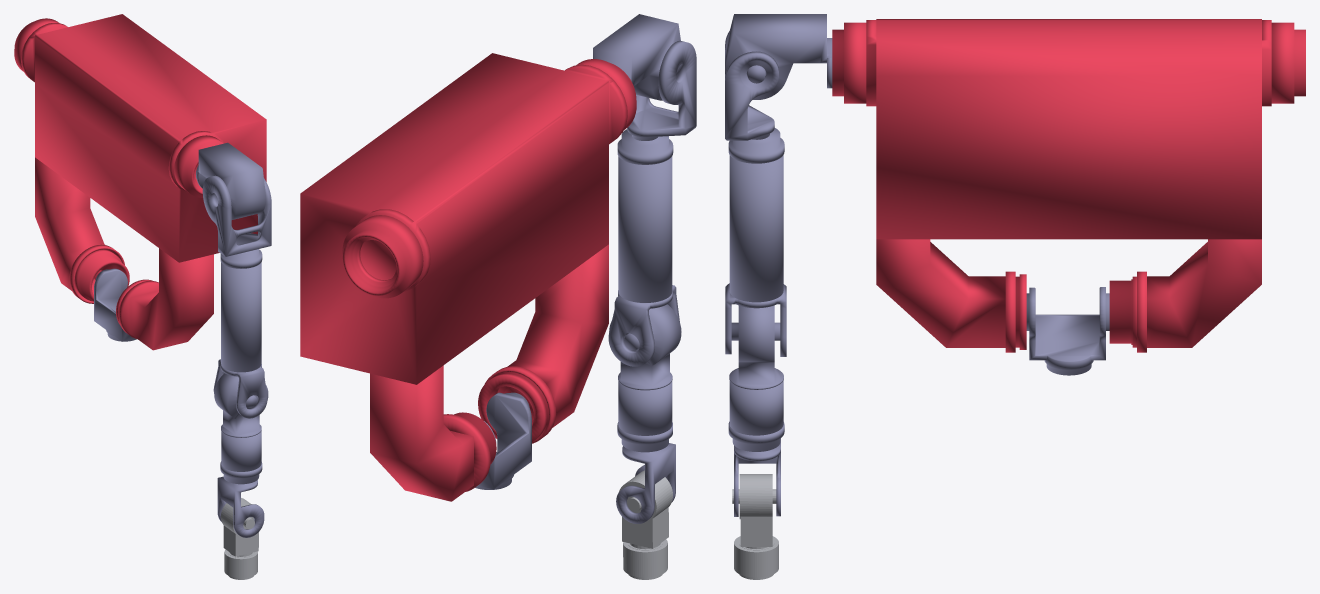
The model's file is teo_rightArm.glb.
The picture shows the model from 3 angles, left to right: view 1: azimuth 30°, elevation 25°; view 2: azimuth 150°, elevation 25°; view 3: azimuth 270°, elevation 25°; orthographic projection. The views are drawn at different scales.
Visible parts, largest first — view 1: node.016, AxialRightShoulder, FrontalRightElbow, FrontalRightShoulder, SagittalRightShoulder, FrontalRightWrist, node.015, AxialRightWrist; view 2: node.016, AxialRightShoulder, FrontalRightElbow, SagittalRightShoulder, FrontalRightShoulder, FrontalRightWrist, node.015, AxialRightWrist; view 3: node.016, AxialRightShoulder, FrontalRightElbow, FrontalRightShoulder, node.015, FrontalRightWrist, SagittalRightShoulder, AxialRightWrist.
Boxes of the visible parts, bbox=[...] form: node.016: bbox=[14, 14, 266, 350]; AxialRightShoulder: bbox=[213, 249, 267, 418]; FrontalRightElbow: bbox=[214, 373, 268, 484]; FrontalRightShoulder: bbox=[196, 142, 265, 219]; SagittalRightShoulder: bbox=[202, 175, 271, 256]; FrontalRightWrist: bbox=[220, 498, 258, 579]; node.015: bbox=[94, 268, 136, 341]; AxialRightWrist: bbox=[217, 476, 264, 537]; node.016: bbox=[300, 53, 636, 501]; AxialRightShoulder: bbox=[608, 129, 679, 366]; FrontalRightElbow: bbox=[609, 304, 681, 452]; SagittalRightShoulder: bbox=[627, 41, 696, 140]; FrontalRightShoulder: bbox=[593, 14, 680, 100]; FrontalRightWrist: bbox=[618, 470, 672, 579]; node.015: bbox=[475, 392, 531, 489]; AxialRightWrist: bbox=[616, 443, 675, 523]; node.016: bbox=[832, 19, 1305, 352]; AxialRightShoulder: bbox=[725, 128, 786, 356]; FrontalRightElbow: bbox=[728, 305, 784, 451]; FrontalRightShoulder: bbox=[725, 14, 832, 99]; node.015: bbox=[1026, 287, 1109, 375]; FrontalRightWrist: bbox=[732, 474, 778, 579]; SagittalRightShoulder: bbox=[725, 31, 778, 140]; AxialRightWrist: bbox=[734, 438, 780, 516].
Size of the model in its own units: 0.1679 by 0.6729 by 0.6448.
